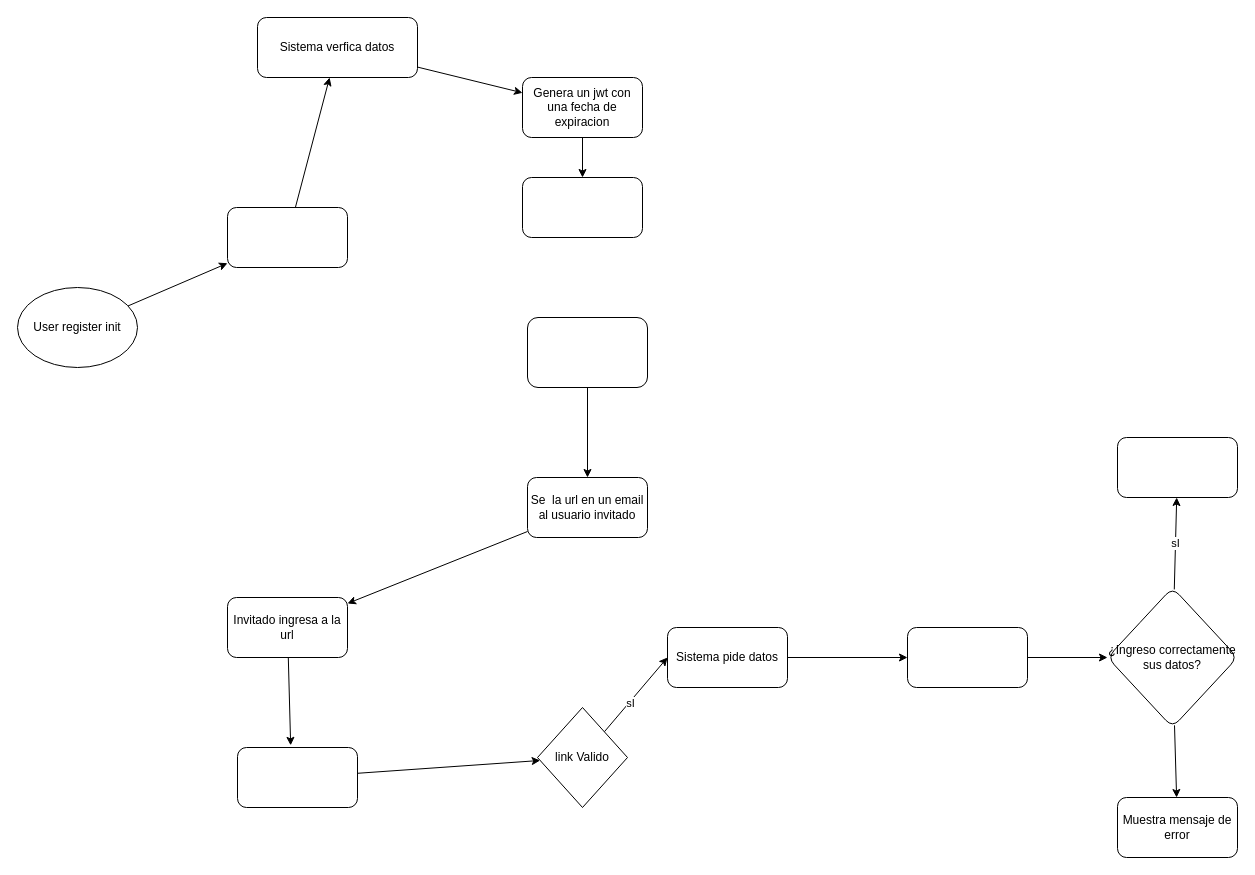
This 1255x875 diagram has some shape labels left out. Each missing label, with the box of its shape:
Redirecciona al usuario al inicio de sesión: (1116, 436, 1238, 498)
Registro nuevo usuario: (226, 206, 348, 268)
Se arma una url con un token de vencimiento: (526, 316, 648, 388)
Sistema, registra contraseña: (906, 626, 1028, 688)
Sistema, verifica la validez de la url: (236, 746, 358, 808)
